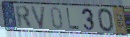0: (50, 6, 64, 31)
3: (81, 7, 98, 32)
L: (65, 8, 81, 31)
O: (96, 8, 115, 34)
R: (14, 4, 35, 30)
V: (30, 5, 47, 30)
